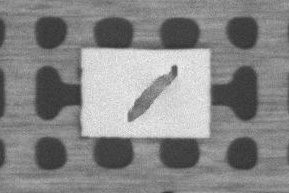DIE_INK: (177, 38, 282, 85)
